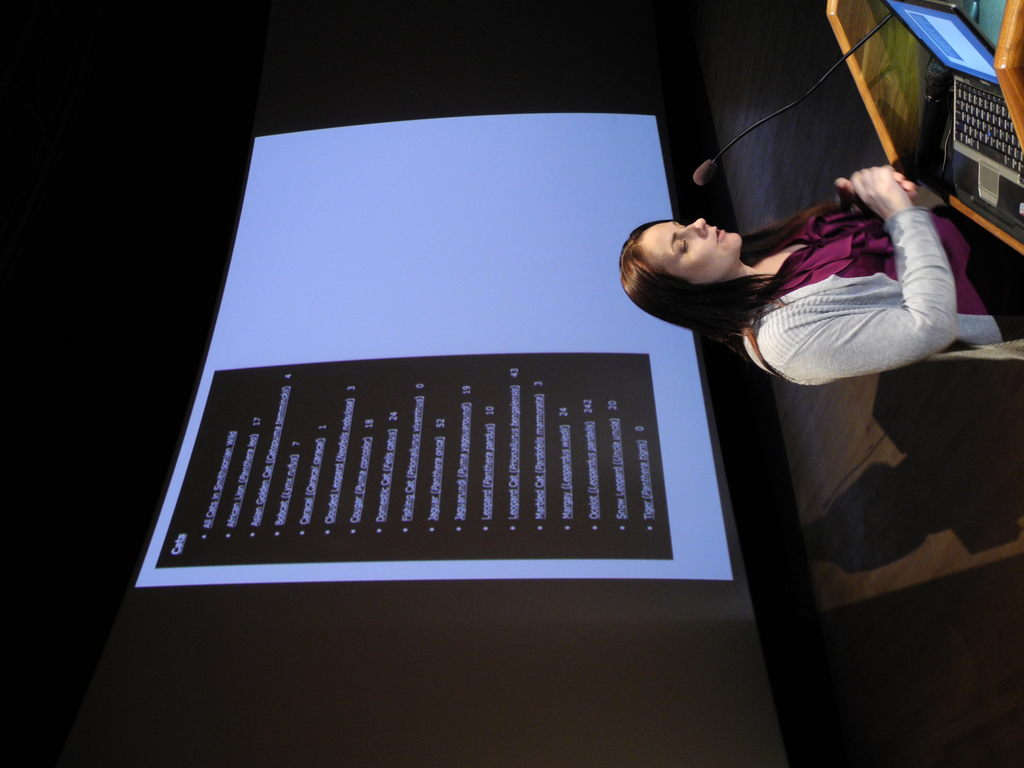Human_hand: (852, 166, 911, 214), (833, 172, 915, 195)
